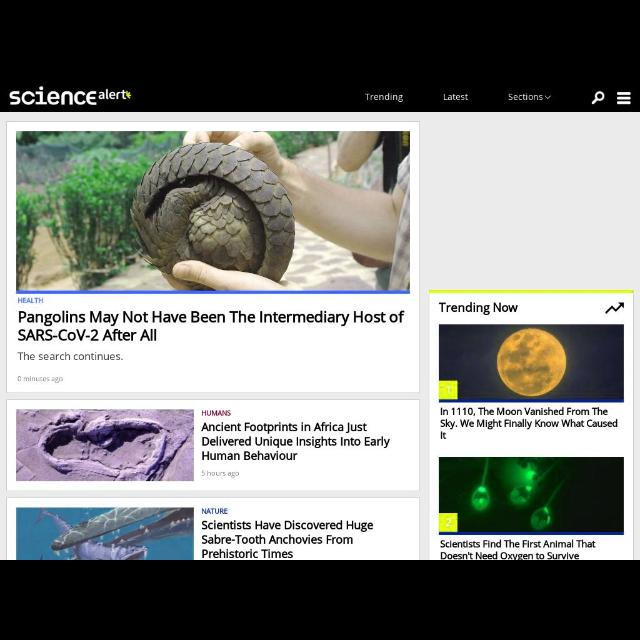icon: (606, 302, 624, 314), (616, 92, 632, 105), (591, 92, 605, 105), (544, 94, 552, 100)
image: (16, 130, 410, 294), (438, 325, 624, 403), (438, 457, 624, 535), (16, 409, 194, 481), (17, 508, 194, 558), (9, 86, 131, 105)
panel: (8, 122, 420, 394), (430, 290, 634, 560), (7, 400, 420, 492), (7, 498, 420, 558)
spinner: (507, 93, 551, 101)
text: (18, 311, 406, 341), (202, 422, 390, 462), (202, 520, 374, 558), (440, 407, 618, 439), (440, 540, 596, 558), (438, 302, 518, 316), (17, 352, 123, 361), (18, 376, 62, 384), (365, 94, 403, 102), (201, 470, 239, 478), (508, 93, 542, 101), (202, 409, 230, 416), (444, 93, 468, 101), (18, 297, 44, 303), (202, 508, 228, 514)
toolbar: (1, 80, 640, 112)
